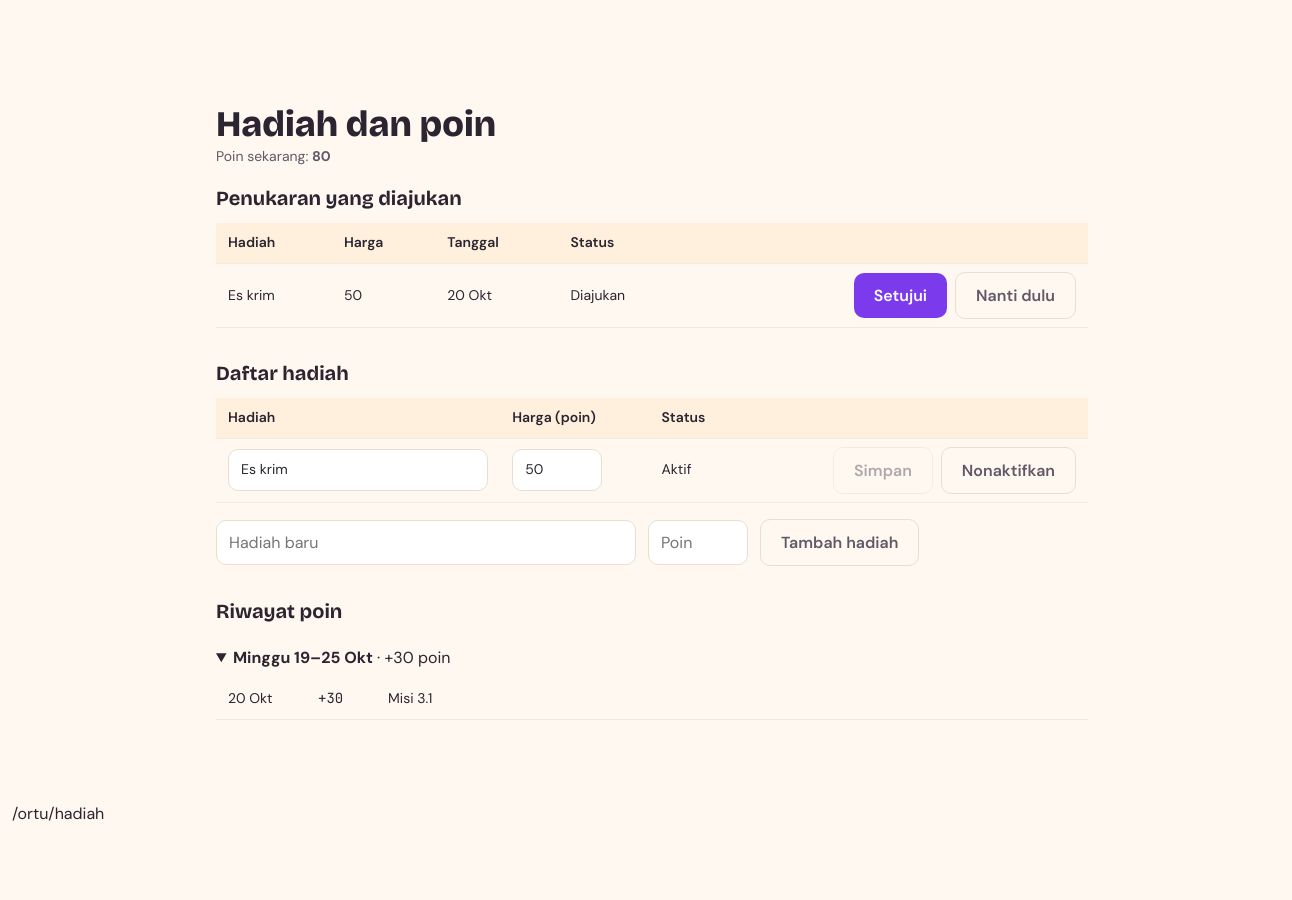
Test: Pojok Orang Tua › Hadiah: menyetujui penukaran yang diajukan
Click the button "Setujui": point(900, 296) [854,273,947,318]
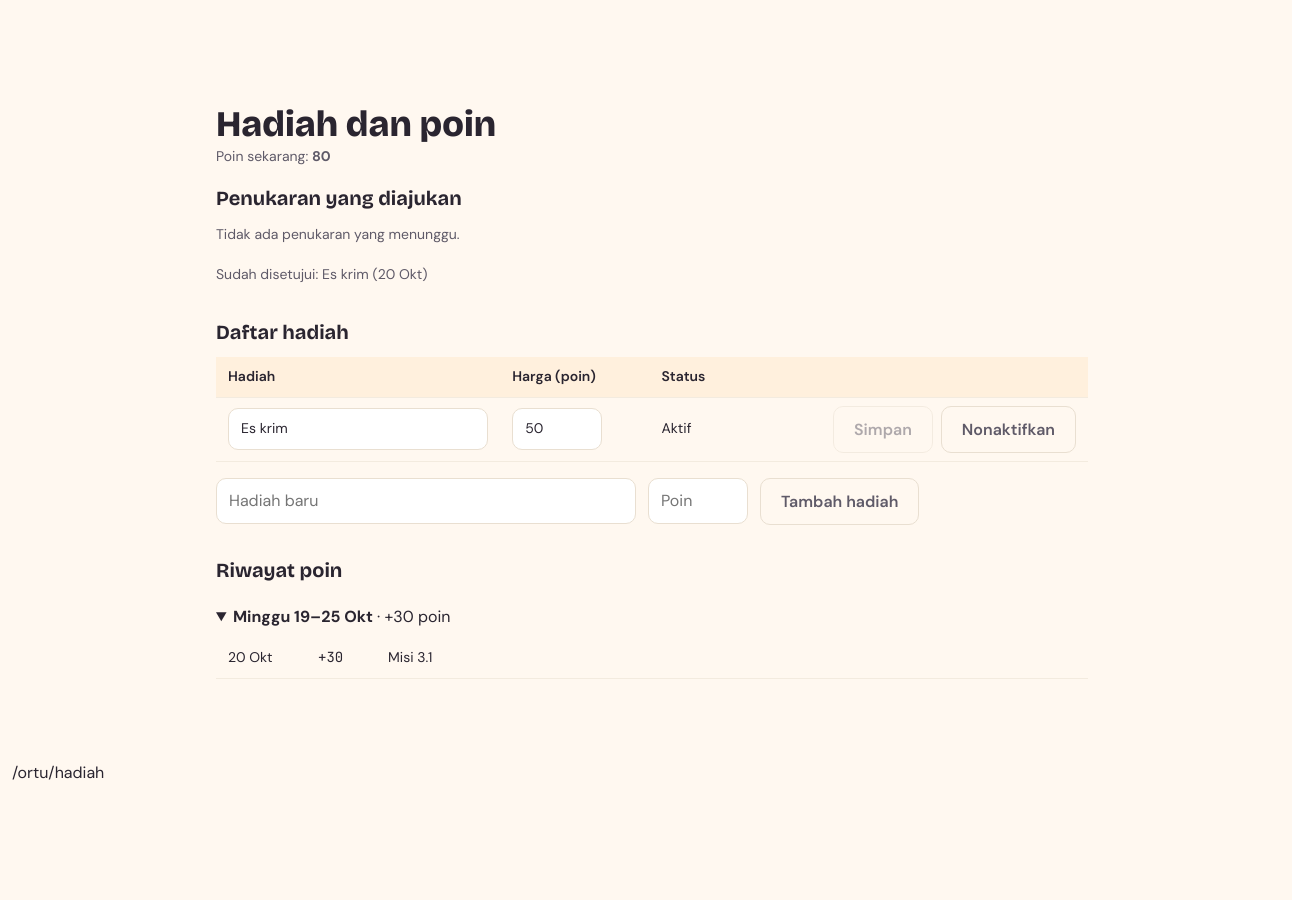
Check: the text "Misi 3.1" is shown, box [376,638,1088,678]
Check: the text "Sudah disetujui: Es krim (20 Okt)" is shown, box [216,265,428,283]
